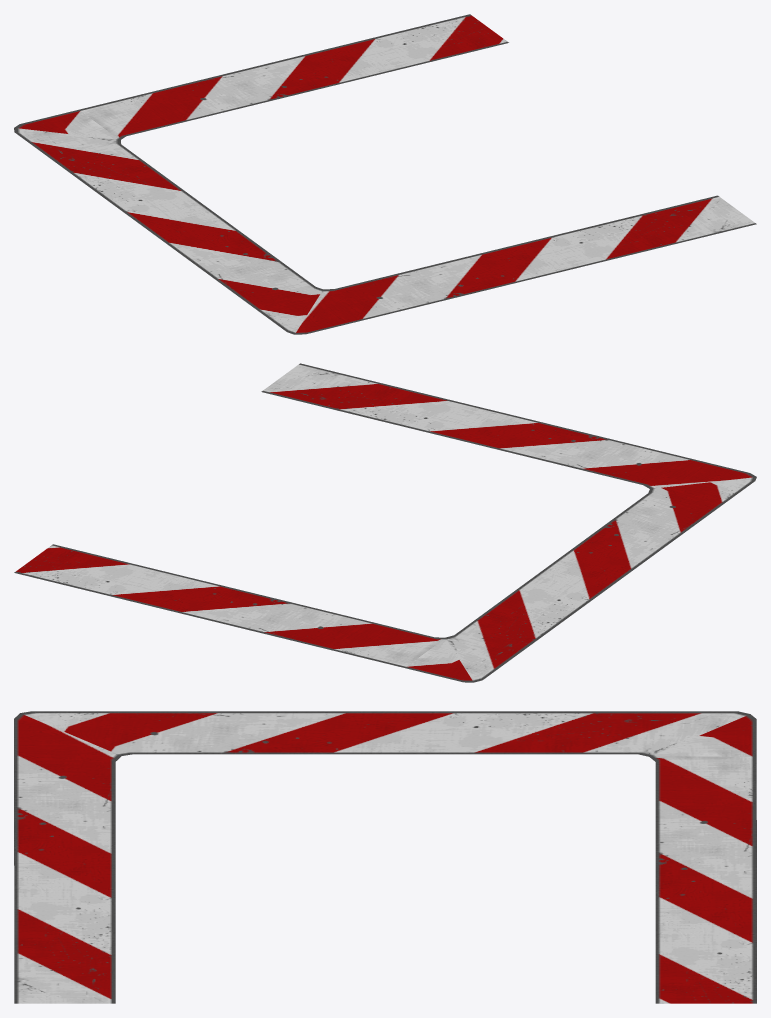
The model's file is SM_FloorDecal_RecRed1X1.FBX.
3 renders of one model, top to bottom at view 1: azimuth 30°, elevation 25°; view 2: azimuth 150°, elevation 25°; view 3: azimuth 270°, elevation 25°, orthographic. The views are drawn at different scales.
Parts seen in each view (by area): view 1: SM_FloorDecal_RecRed1X1; view 2: SM_FloorDecal_RecRed1X1; view 3: SM_FloorDecal_RecRed1X1.
Boxes of the visible parts, <box> form: SM_FloorDecal_RecRed1X1: <box>14,14,756,334</box>; SM_FloorDecal_RecRed1X1: <box>14,363,756,682</box>; SM_FloorDecal_RecRed1X1: <box>14,711,756,1003</box>.
Bounding box in the file's own units: 108 × 116 × 0.
